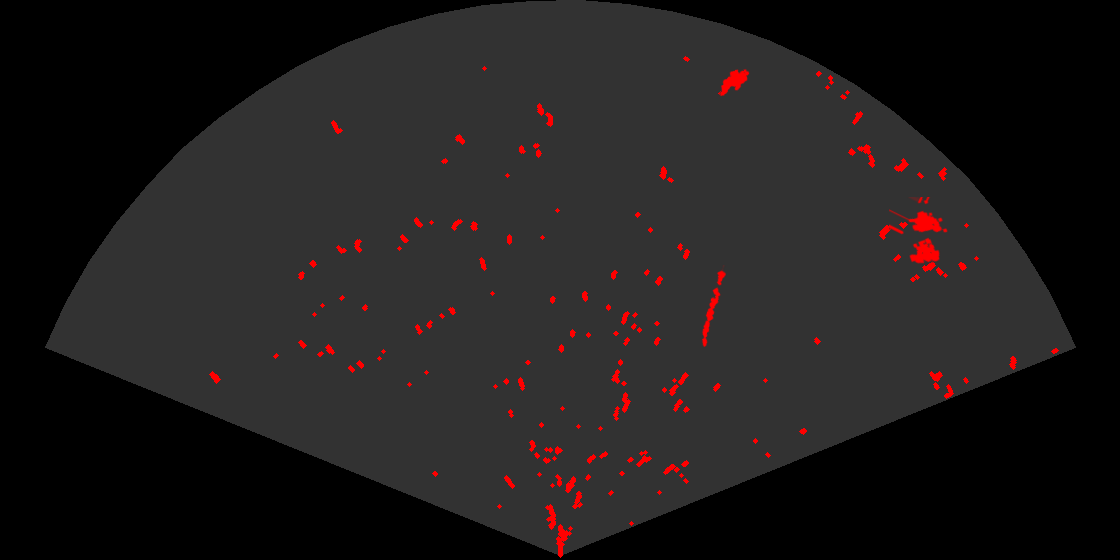AUV: (718, 67, 751, 98)
cage: (889, 197, 949, 265)
chain: (700, 265, 728, 349)
